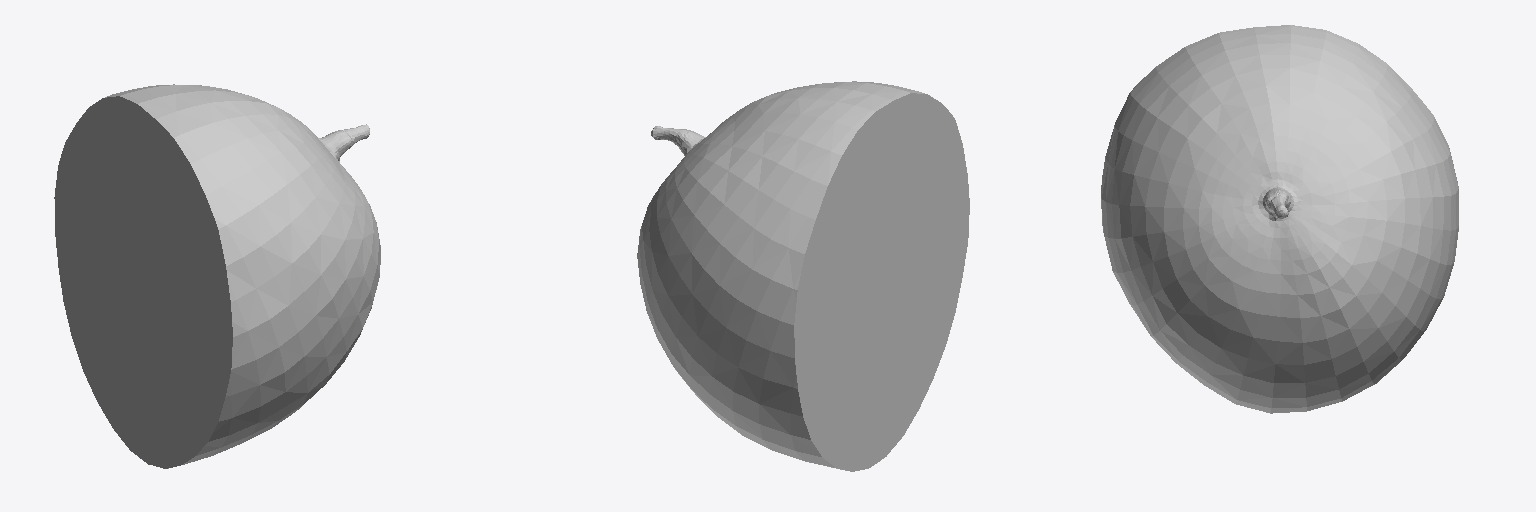
The model's file is mango_cut_1.obj.
3 views of the same model, side by side, from view 1: azimuth 30°, elevation 25°; view 2: azimuth 150°, elevation 25°; view 3: azimuth 270°, elevation 25° (orthographic).
Parts seen in each view (by area): view 1: mmGroup1, mmGroup0; view 2: mmGroup0, mmGroup1; view 3: mmGroup0.
Part boxes in pixels (left/top/right/bottom): mmGroup1: left=54, top=96, right=232, bottom=468; mmGroup0: left=105, top=84, right=380, bottom=468; mmGroup0: left=637, top=81, right=924, bottom=470; mmGroup1: left=794, top=93, right=969, bottom=471; mmGroup0: left=1101, top=25, right=1458, bottom=413.
Bounding box in the file's own units: 71.22 × 106 × 97.13.